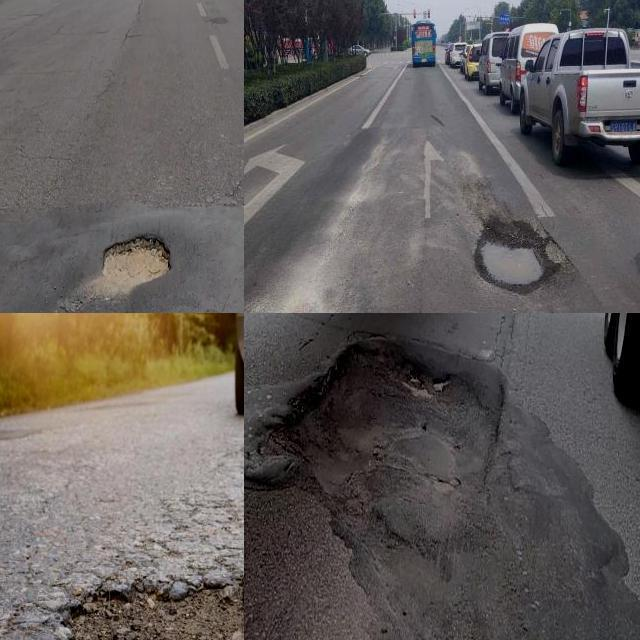Pothole: (268, 344, 491, 640), (100, 229, 173, 297), (482, 242, 543, 285)
